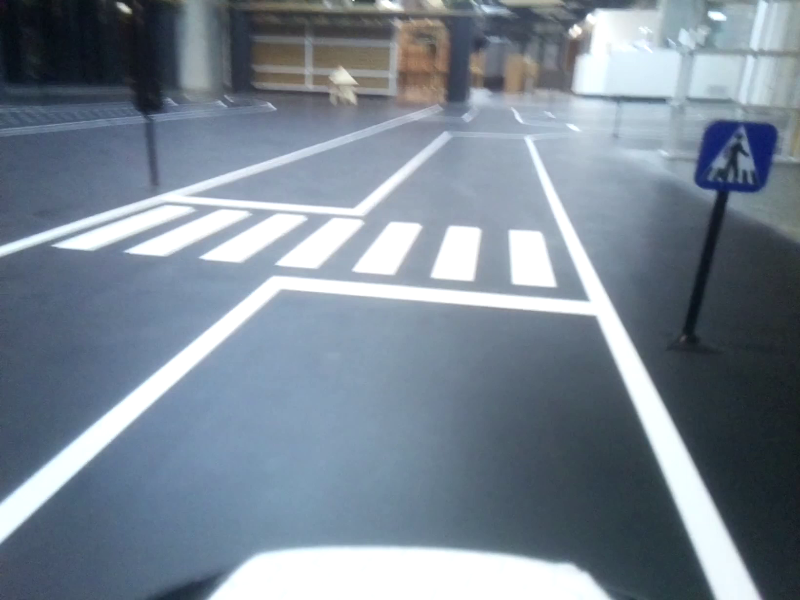pedestrian: (701, 117, 766, 189)
